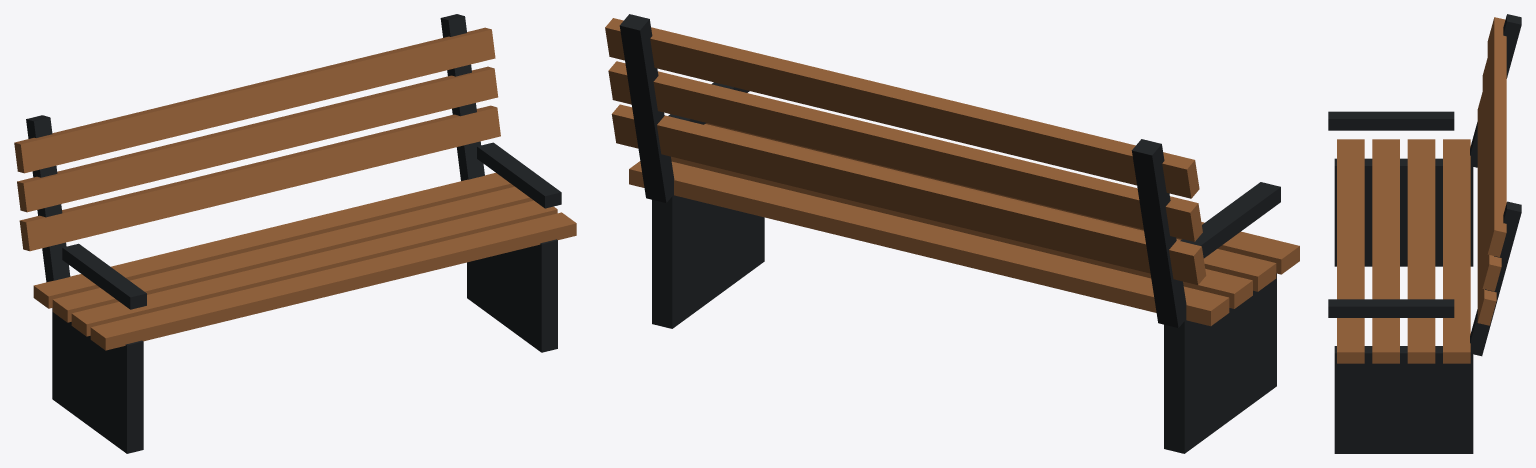
The model's file is bench.fbx.
3 views of the same model, side by side, from view 1: azimuth 30°, elevation 25°; view 2: azimuth 150°, elevation 25°; view 3: azimuth 270°, elevation 25° (orthographic). The views are drawn at different scales.
Visible parts, largest first — view 1: bench; view 2: bench; view 3: bench.
Boxes of the visible parts, left/top/right/bottom form: bench: left=14, top=14, right=576, bottom=453; bench: left=605, top=14, right=1299, bottom=453; bench: left=1328, top=14, right=1521, bottom=453.
Size of the model in its own units: 2 by 1.07 by 0.7677.
